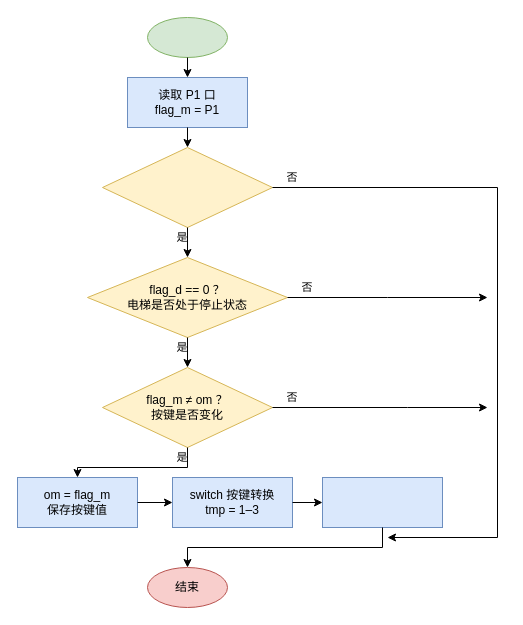
The diagram is 523 pixels wide and 625 high, and some of its shapes have lost their labels. The centre of each missing label's shape, as x and y in pixels:
flag_m ≠ 0xFF ？ 是否有按键按下: the point at 187,187
开始: the point at 187,37
更新目标楼层 flag_o = tmp: the point at 382,502
